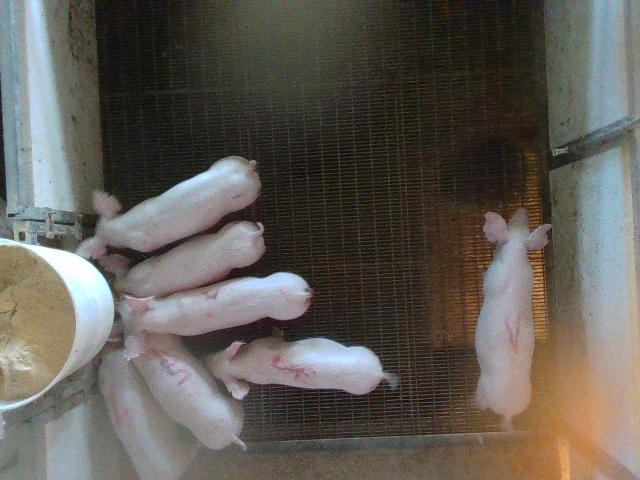pig-1: (475, 208, 551, 429)
pig-3: (132, 334, 246, 449)
pig-4: (99, 344, 199, 478)
pig-5: (206, 338, 391, 398)
